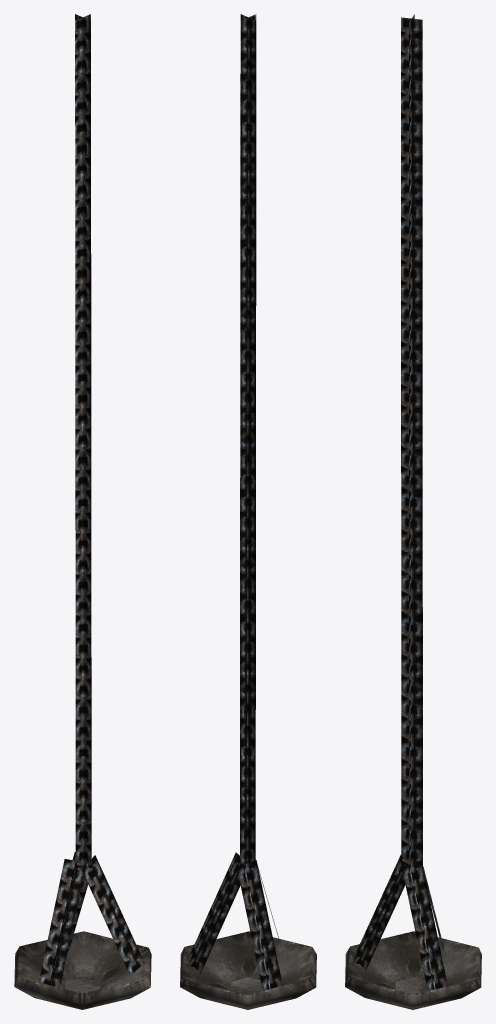
Rendered from environment_common_huopeng_002_a.FBX.
3 renders of one model, left to right at view 1: azimuth 30°, elevation 25°; view 2: azimuth 210°, elevation 25°; view 3: azimuth 330°, elevation 25°, orthographic.
Visible parts, largest first — view 1: environment_common_huopeng_002_b, environment_common_huopeng_002_a; view 2: environment_common_huopeng_002_b, environment_common_huopeng_002_a; view 3: environment_common_huopeng_002_b, environment_common_huopeng_002_a.
Boxes of the visible parts, box(x1,y1,x2,y2) form: environment_common_huopeng_002_b: box(38, 14, 144, 987); environment_common_huopeng_002_a: box(14, 931, 151, 1009); environment_common_huopeng_002_b: box(187, 14, 282, 999); environment_common_huopeng_002_a: box(180, 931, 316, 1009); environment_common_huopeng_002_b: box(352, 14, 447, 999); environment_common_huopeng_002_a: box(345, 931, 481, 1009).
Size of the model in its own units: 107 by 734 by 93.19.
